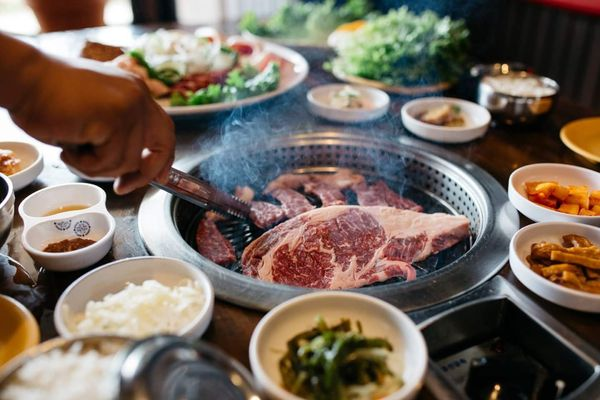sushi: (135, 161, 481, 312), (248, 291, 428, 399), (53, 255, 214, 344), (18, 182, 116, 272), (508, 220, 600, 313), (507, 162, 600, 227), (21, 209, 116, 272), (477, 68, 559, 128), (400, 95, 491, 144), (0, 293, 42, 383), (306, 83, 390, 123), (0, 139, 45, 192), (559, 115, 600, 169), (0, 170, 17, 249)
